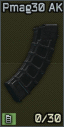AK 7.62x39 Magpul PMAG 30 GEN M3 30-round magazine: (0, 0, 64, 127)
